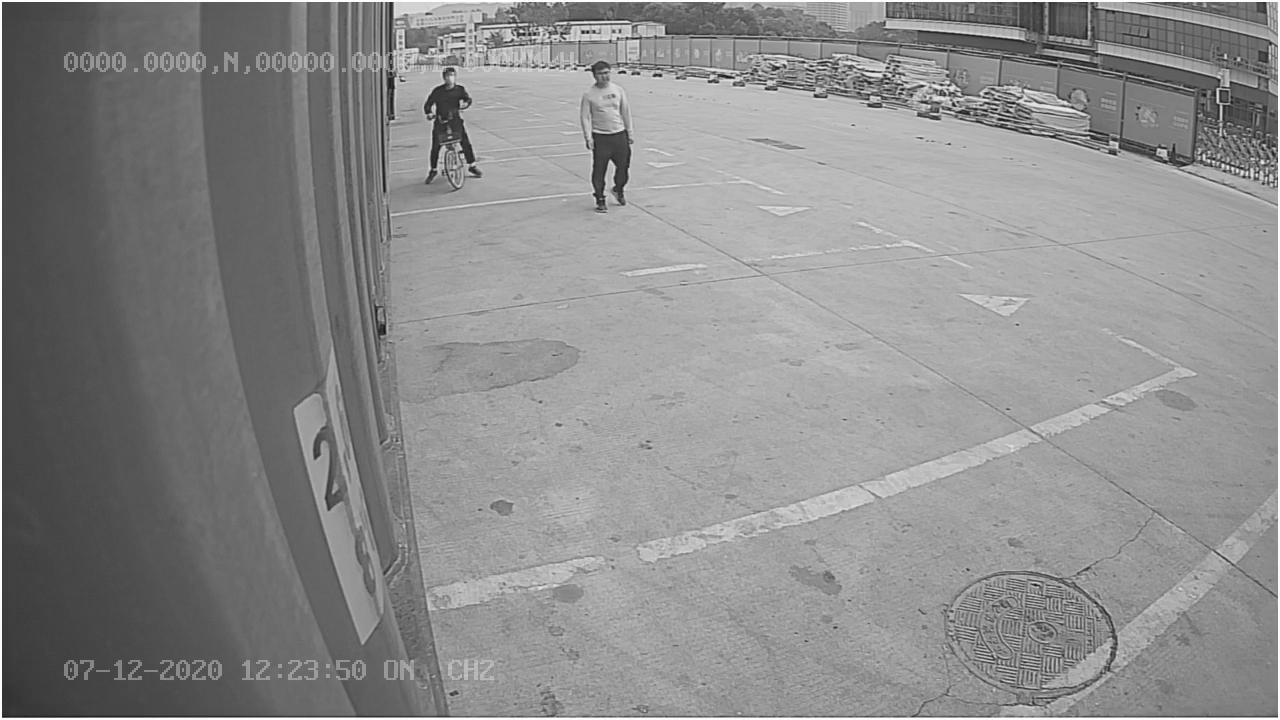person: (577, 58, 636, 219)
